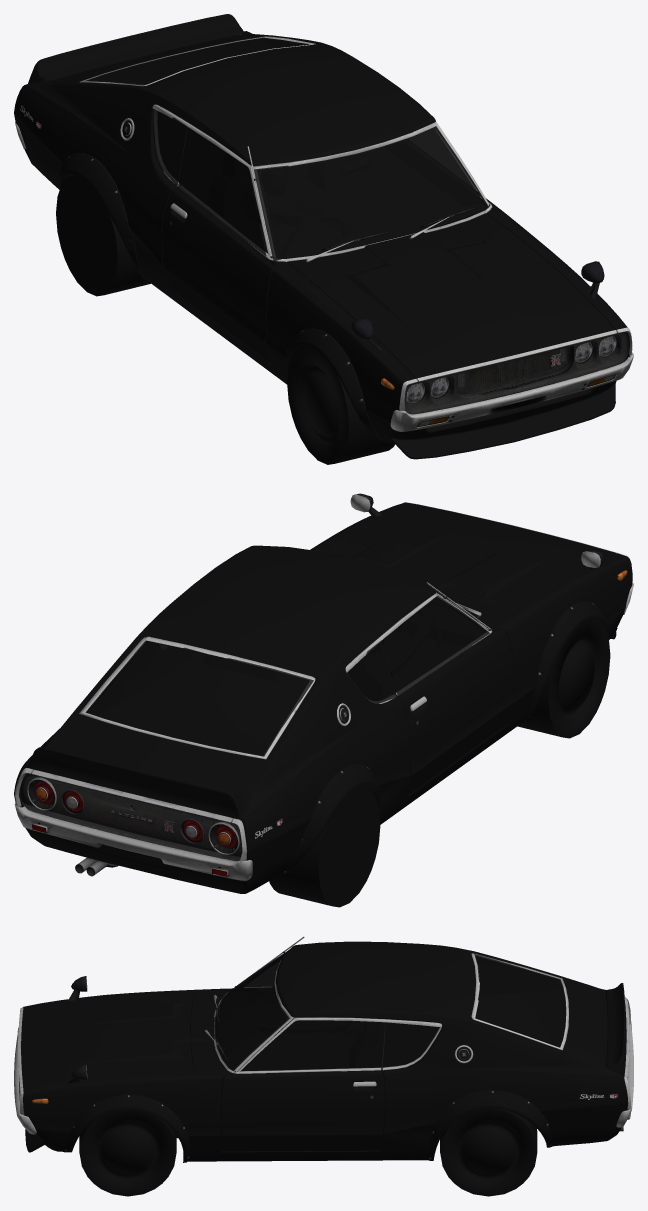
File: car.glb
3 views of the same model, one above another, from view 1: azimuth 30°, elevation 25°; view 2: azimuth 150°, elevation 25°; view 3: azimuth 270°, elevation 25° (orthographic). The views are drawn at different scales.
Parts seen in each view (by area): view 1: Object_5, Object_3, Object_4, Object_5.001; view 2: Object_5, Object_3, Object_4, Object_5.001; view 3: Object_5, Object_3, Object_5.001, Object_4.
Boxes of the visible parts, x1,y1,x2,y2 form: Object_5: [14, 14, 630, 459]; Object_3: [84, 38, 485, 261]; Object_4: [15, 34, 633, 436]; Object_5.001: [56, 175, 395, 464]; Object_5: [14, 502, 632, 893]; Object_3: [87, 593, 489, 756]; Object_4: [14, 493, 633, 880]; Object_5.001: [269, 618, 610, 907]; Object_5: [19, 941, 627, 1162]; Object_3: [215, 949, 566, 1070]; Object_5.001: [79, 1108, 537, 1196]; Object_4: [14, 936, 633, 1159].
Bounding box in the file's own units: 7.3 × 5.77 × 18.48.
Materials: 4 (1 with a texture image).
